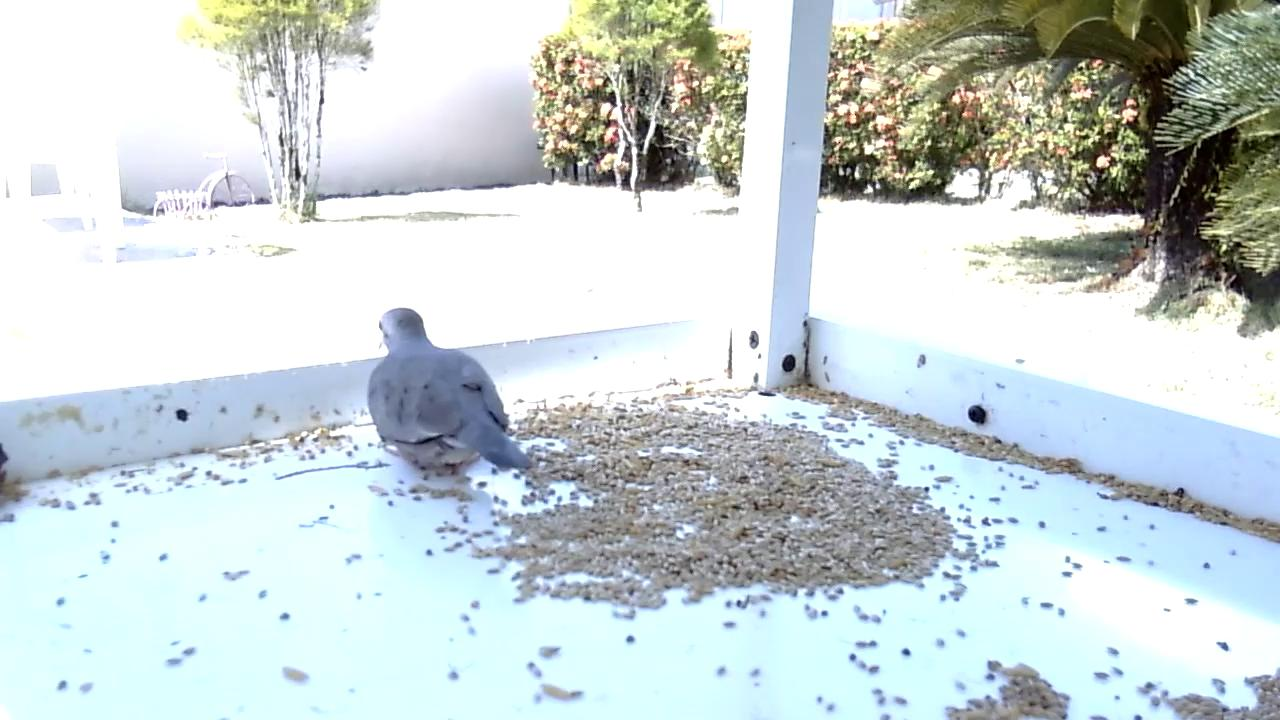rolinha: (365, 306, 536, 475)
